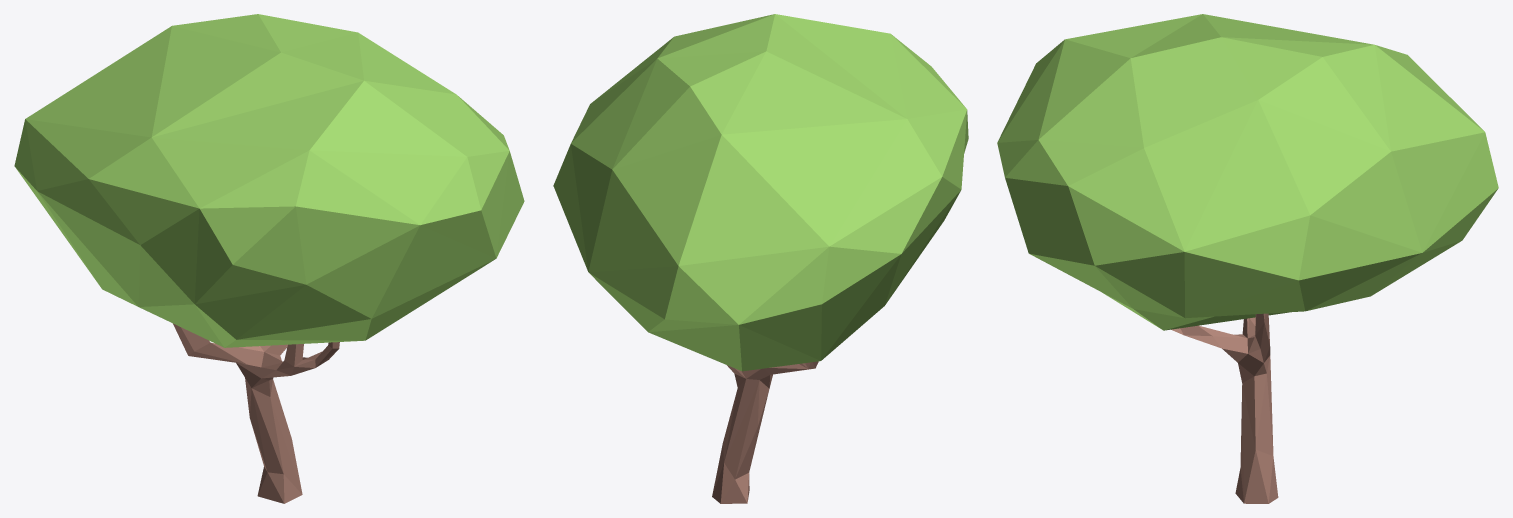
The model's file is tree-vase.glb.
3 views of the same model, side by side, from view 1: azimuth 30°, elevation 25°; view 2: azimuth 150°, elevation 25°; view 3: azimuth 270°, elevation 25° (orthographic). The views are drawn at different scales.
Parts seen in each view (by area): view 1: leaves, trunk; view 2: leaves, trunk; view 3: leaves, trunk.
Boxes of the visible parts, bbox=[...] form: leaves: bbox=[14, 14, 524, 347]; trunk: bbox=[173, 323, 339, 503]; leaves: bbox=[553, 14, 968, 371]; trunk: bbox=[712, 361, 818, 503]; leaves: bbox=[997, 14, 1498, 330]; trunk: bbox=[1171, 313, 1278, 503].
Bounding box in the file's own units: 6.34 × 7 × 7.05.
